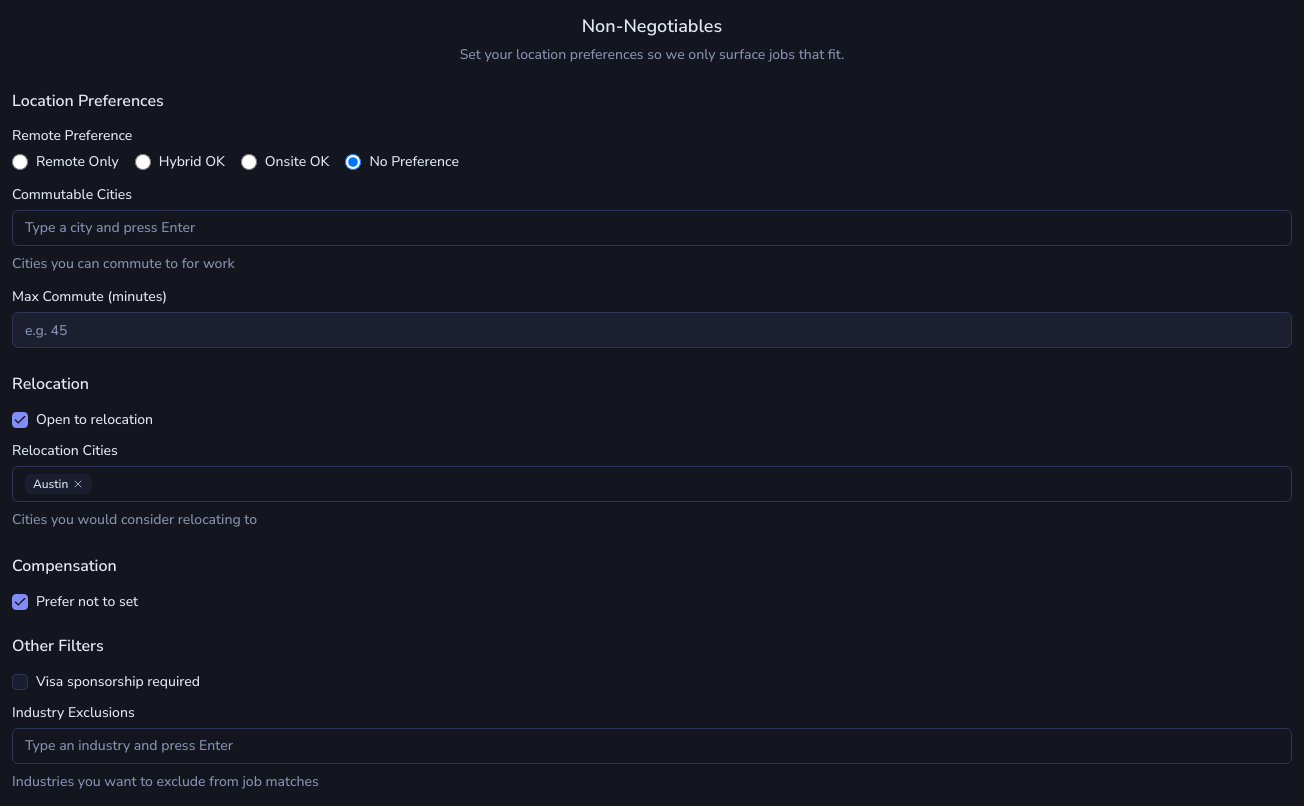
Test: NonNegotiablesStep › conditional field visibility › hides relocation cities when toggle is unchecked again
Note: Uncheck toggle
Click the checkbox named "open to relocation" next to "Open to relocation" at (20, 420), box [12, 412, 28, 428]
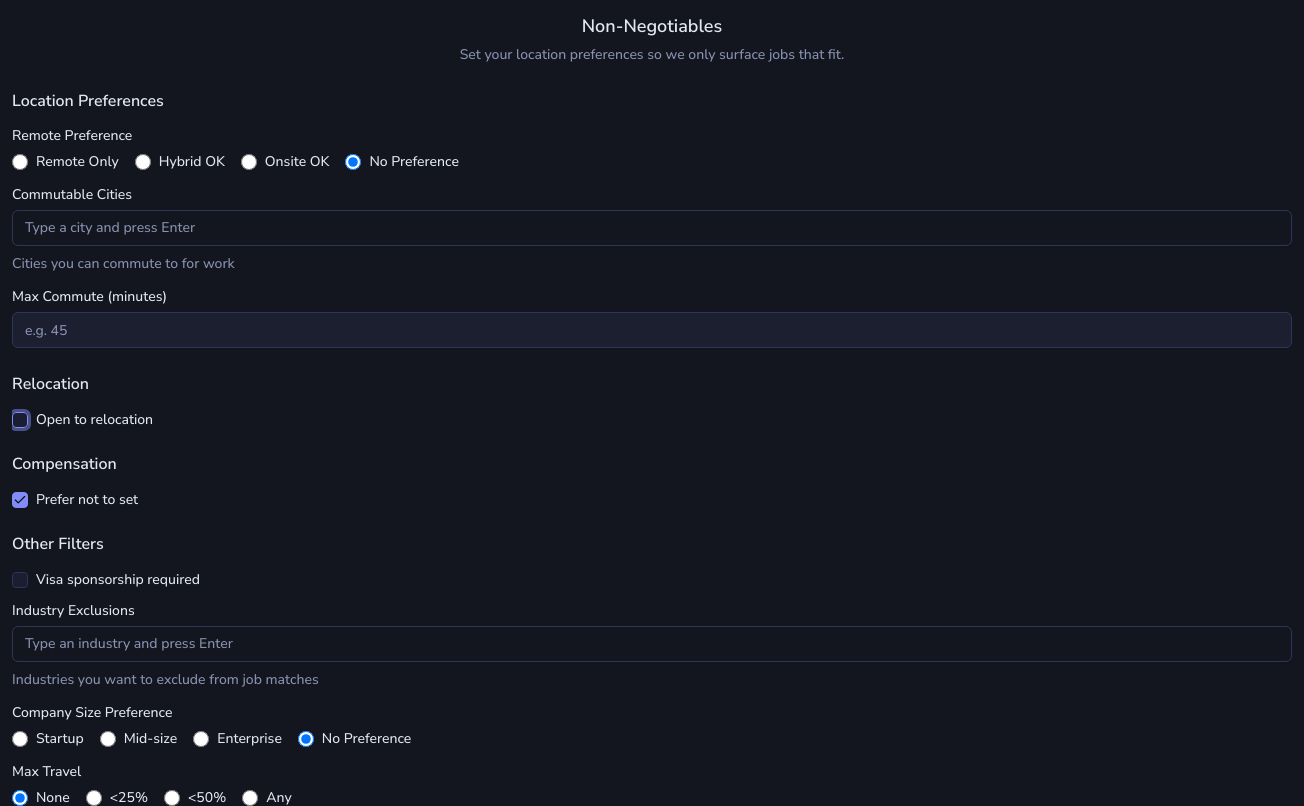
Expected: the label labelled "Relocation Cities" is gone
